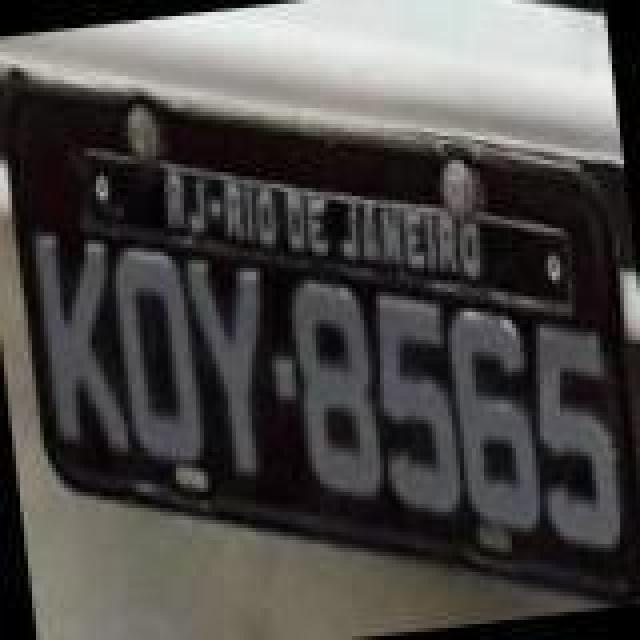5: (518, 310, 634, 562), (364, 282, 468, 526)
6: (444, 298, 548, 542)
8: (284, 272, 388, 512)
K: (26, 220, 134, 468)
O: (110, 242, 210, 478)
Y: (180, 252, 284, 484)
